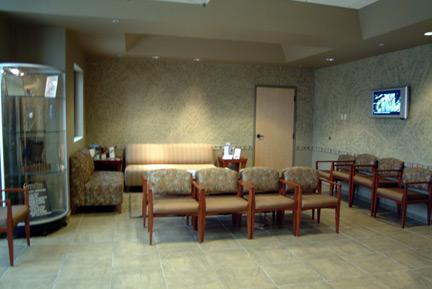Puerta: (257, 85, 293, 166)
Ventana: (72, 64, 85, 143)
